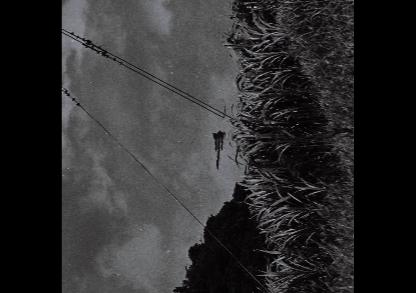Rafale: (214, 128, 225, 170)
